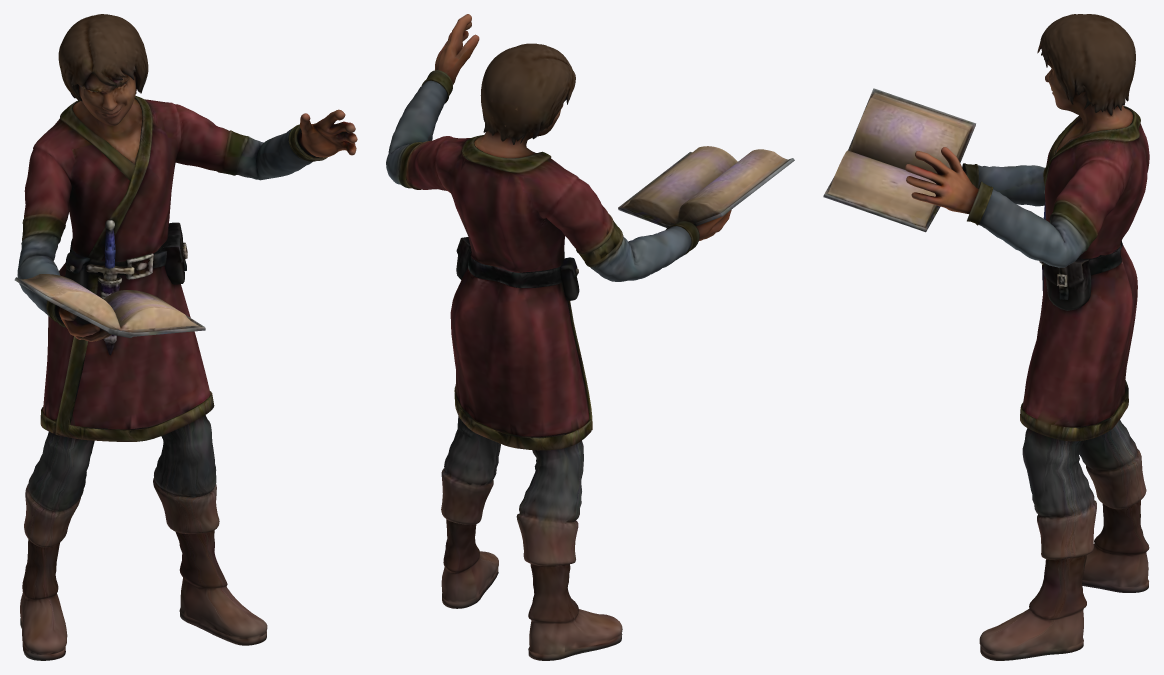
File: MZ4250 - Apprentice Wizard_2.glb
3 renders of one model, left to right at view 1: azimuth 30°, elevation 25°; view 2: azimuth 150°, elevation 25°; view 3: azimuth 270°, elevation 25°, orthographic. The views are drawn at different scales.
Visible parts, largest first — view 1: Pouch Generic 3.001; view 2: Pouch Generic 3.001; view 3: Pouch Generic 3.001.
Boxes of the visible parts, left/top/right/bottom form: Pouch Generic 3.001: left=14, top=14, right=357, bottom=660; Pouch Generic 3.001: left=386, top=14, right=794, bottom=660; Pouch Generic 3.001: left=823, top=14, right=1149, bottom=660.
Bounding box in the file's own units: 0.4812 × 0.8256 × 0.4147.
Materials: 1 (1 with a texture image).
